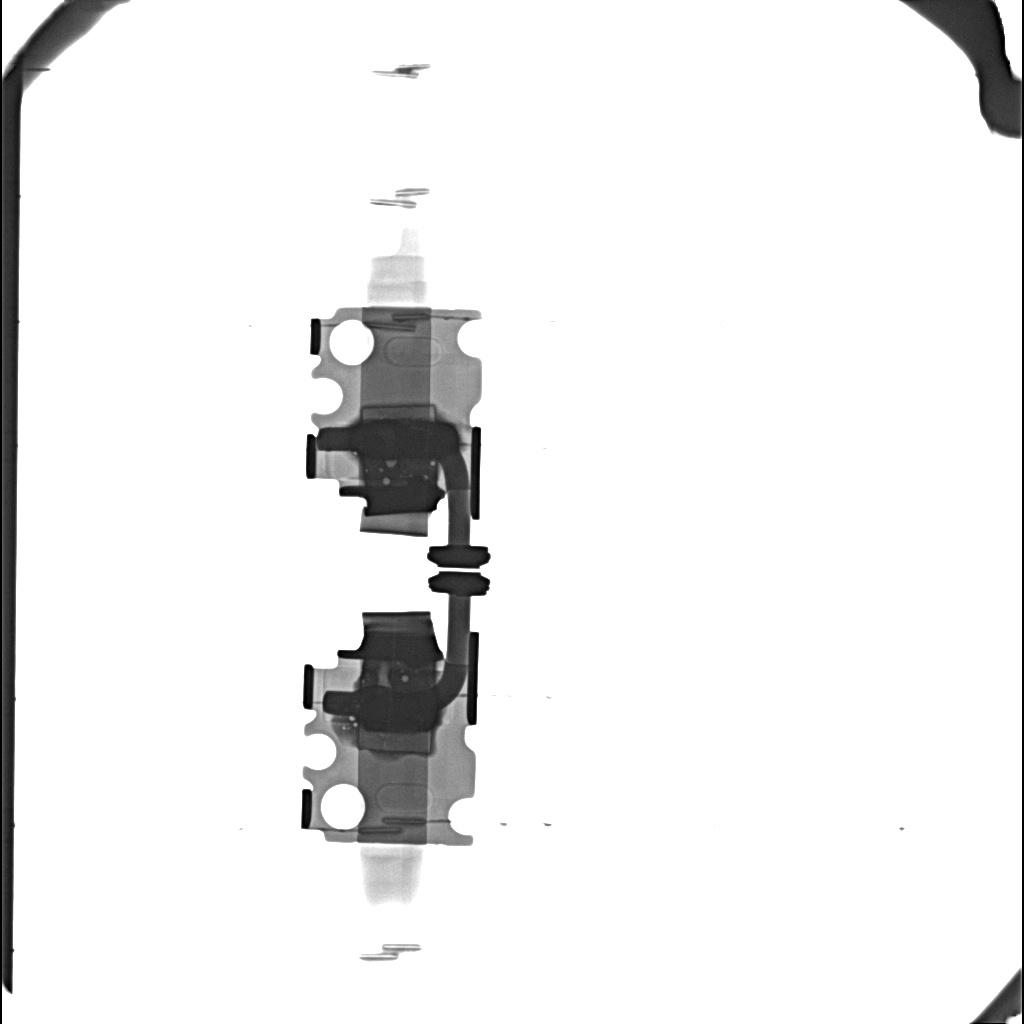气孔: (357, 729, 433, 754), (360, 404, 437, 419)
气泡: (377, 665, 391, 688), (386, 460, 397, 467), (382, 477, 390, 485), (401, 675, 408, 683)
水纹: (351, 420, 458, 459), (352, 688, 437, 731)
